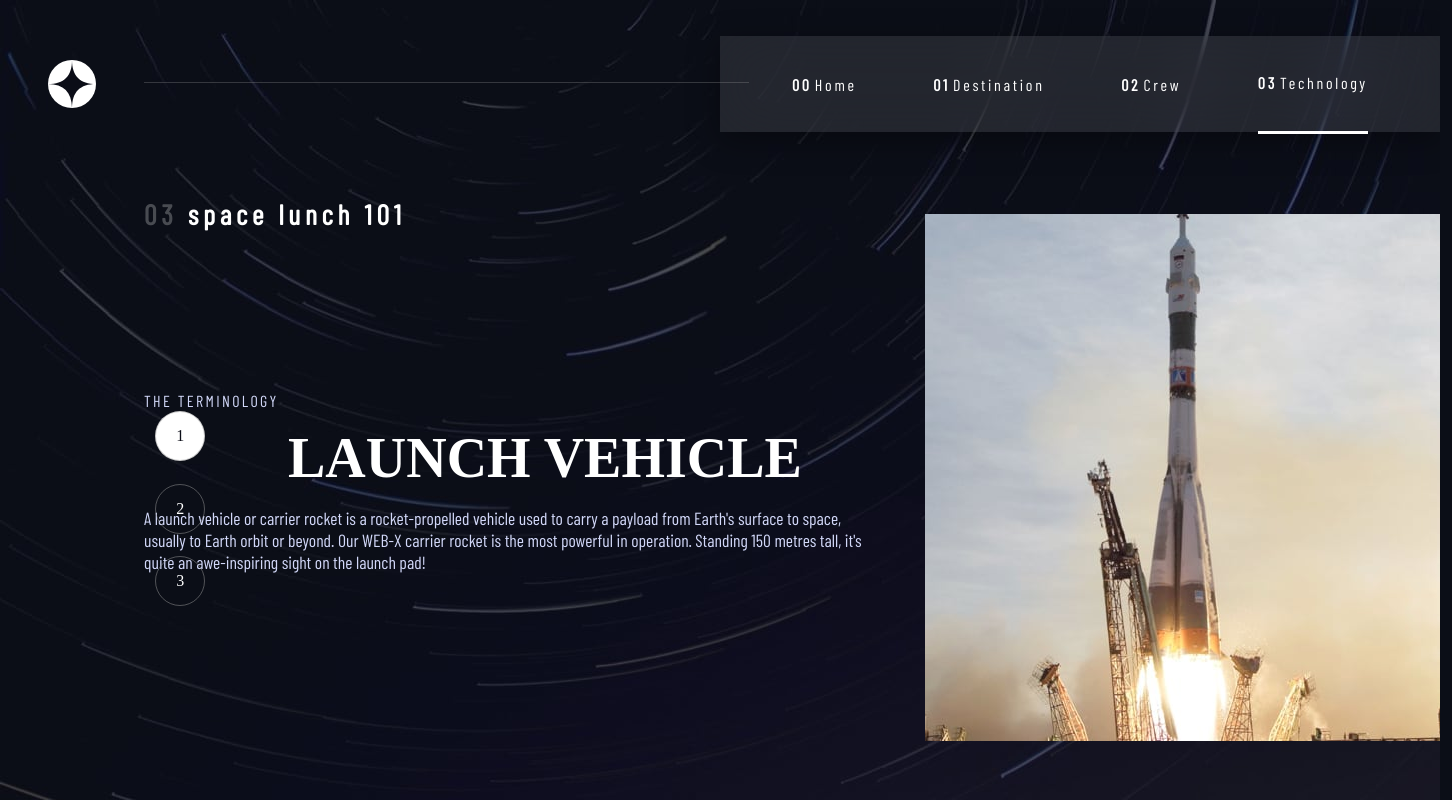
Test: Test Technology navigation › Should show Space Capsule
Step 1. Click the button "2" → [180, 509], box [155,484,205,534]
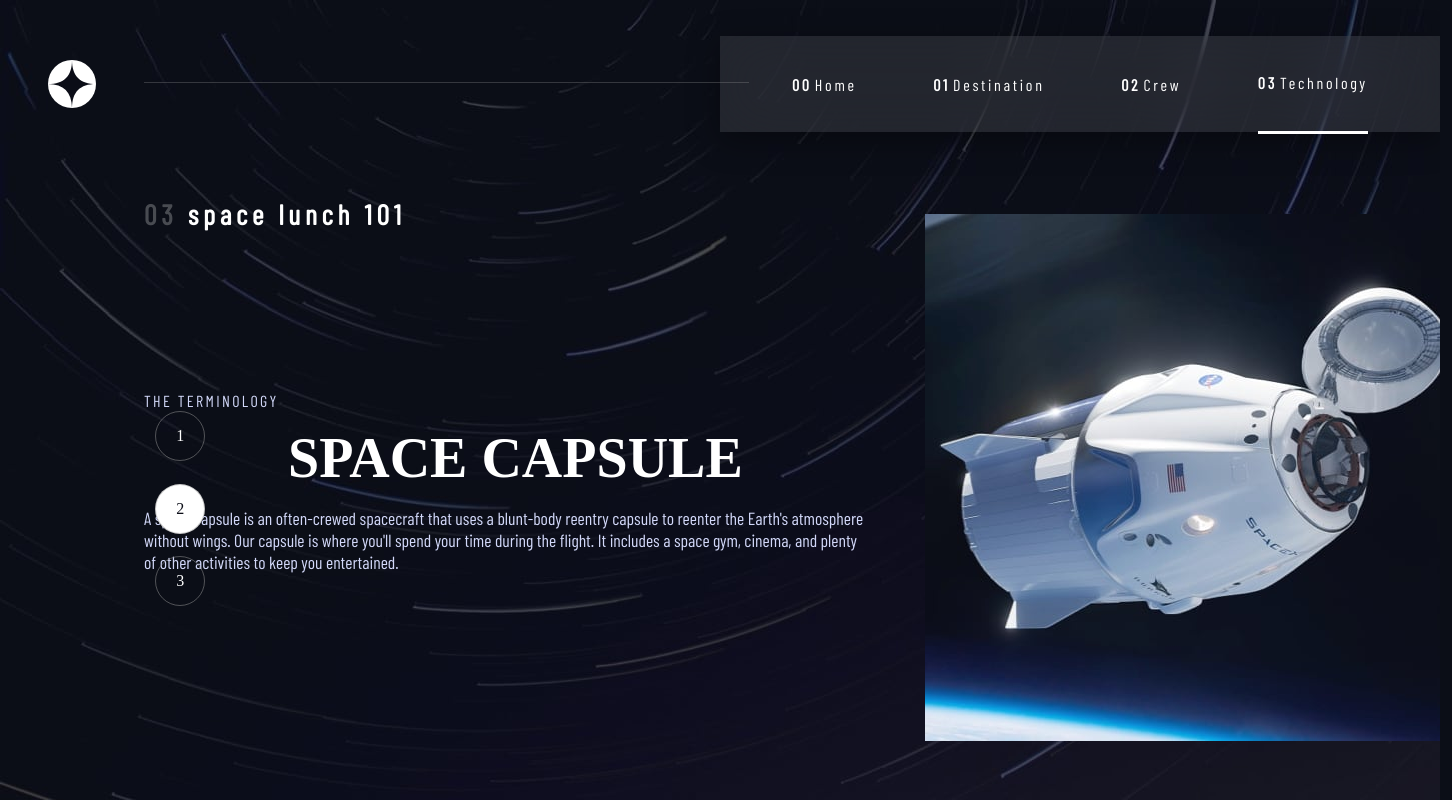
expect the text "space capsule" is shown: met, box [144,507,863,573]
